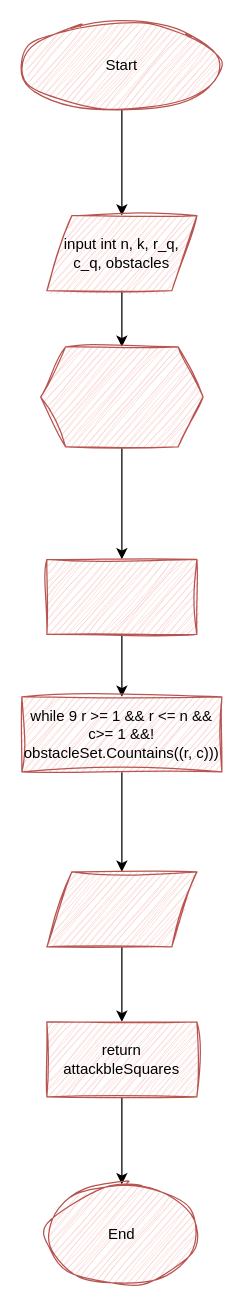
This 244x1306 diagram has some shape labels left out. Each missing label, with the centre of its shape:
"attackbleSquares++; r += dir [0]; c += dir[1];" belongs at point 121,909.
"obstacleSet= attackableSquares = 0" belongs at point 121,396.
"r = r_q + dir[0] c= c_q + dir[1]" belongs at point 121,596.
